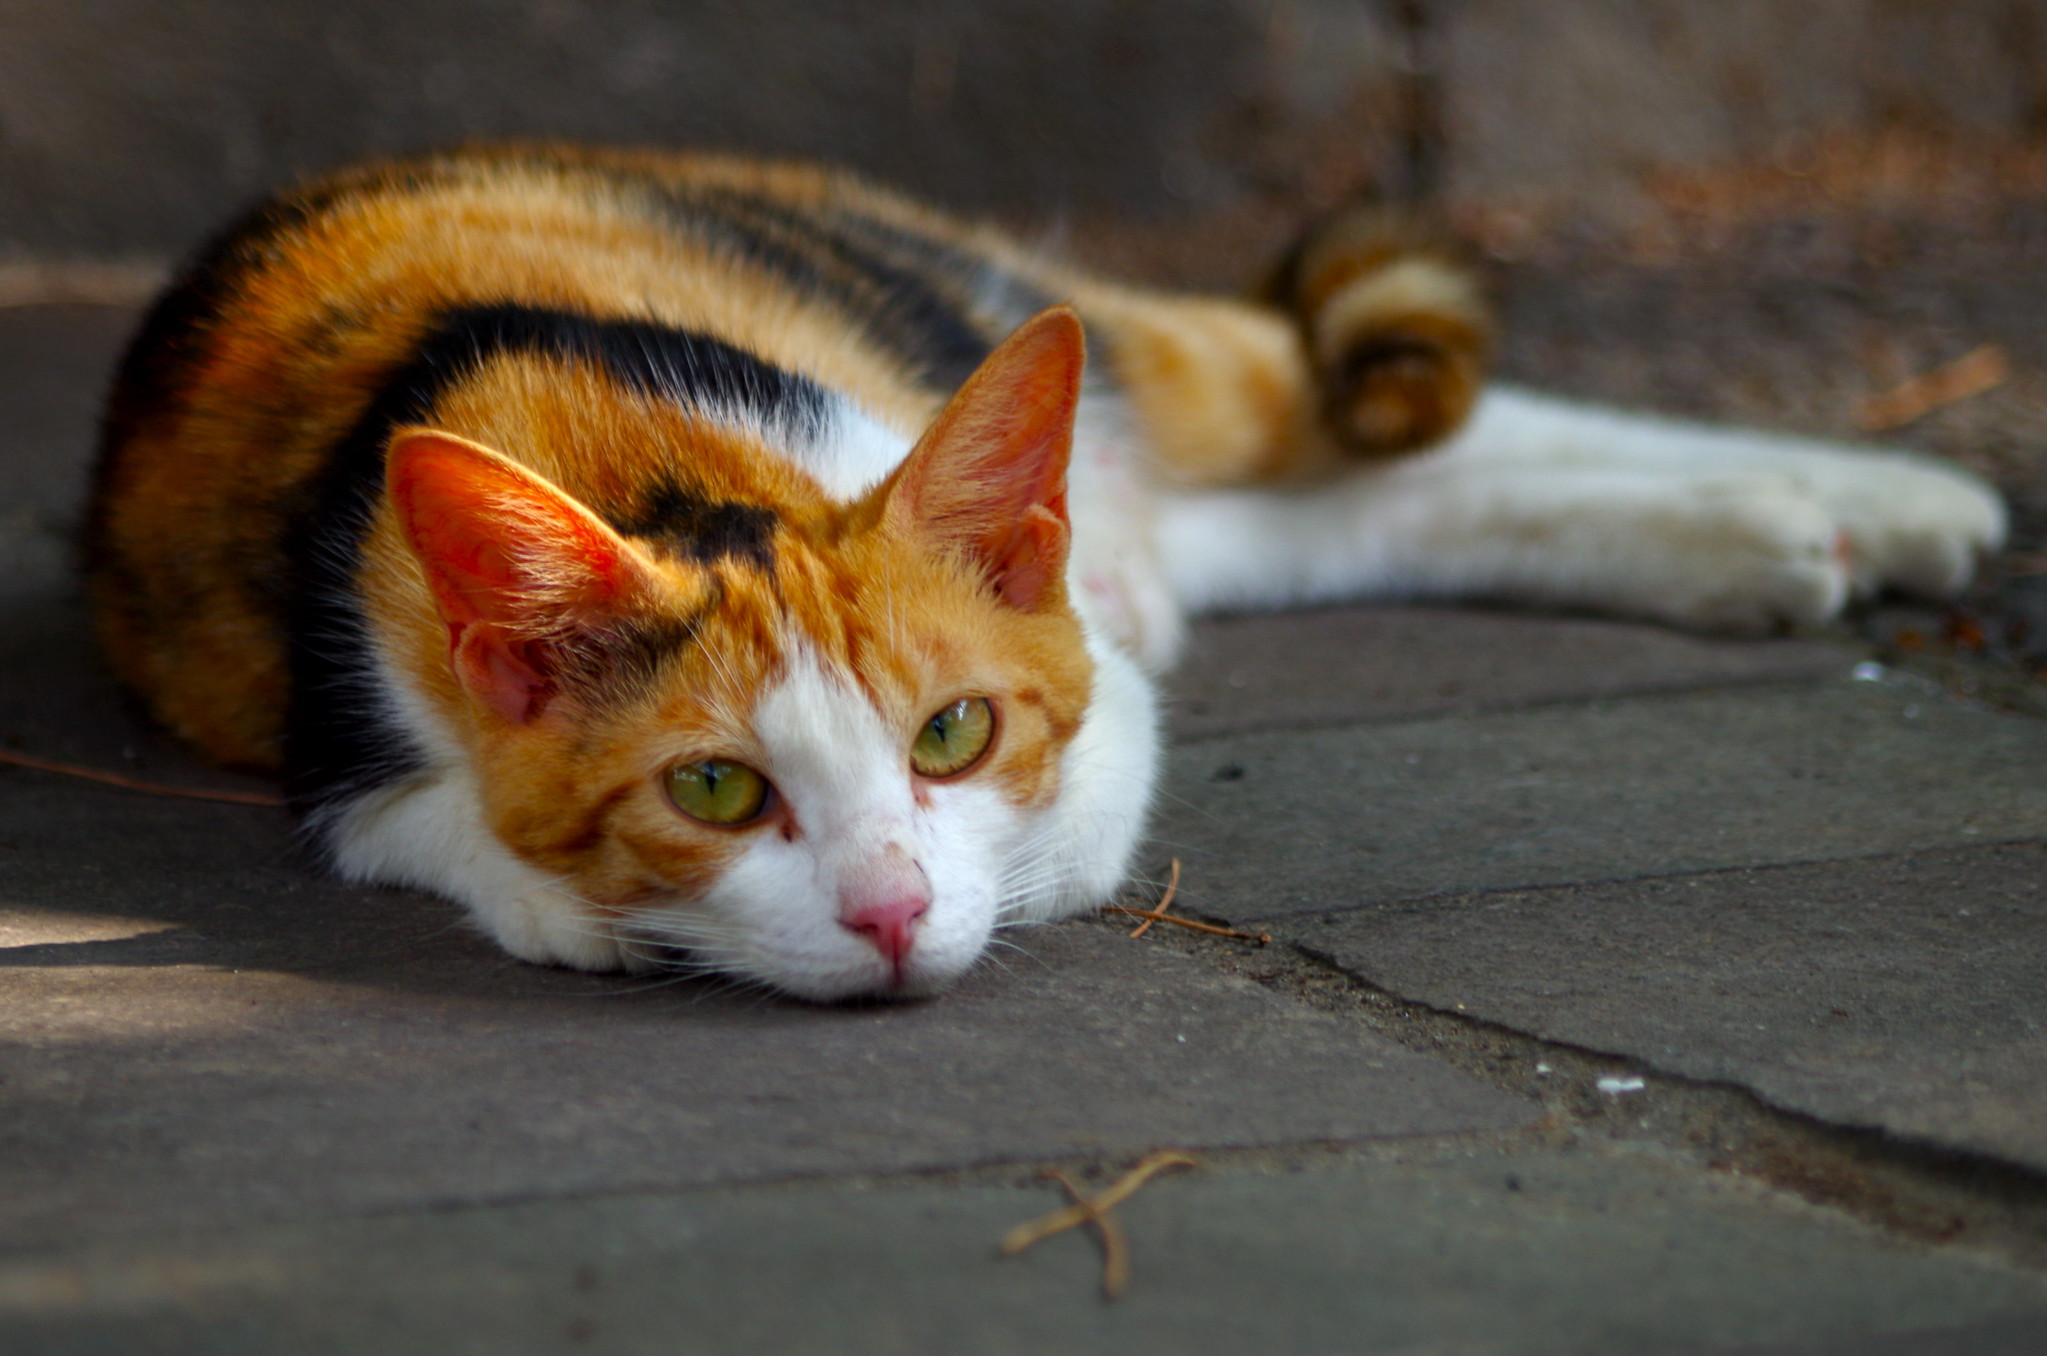cat: (115, 129, 2029, 1003)
